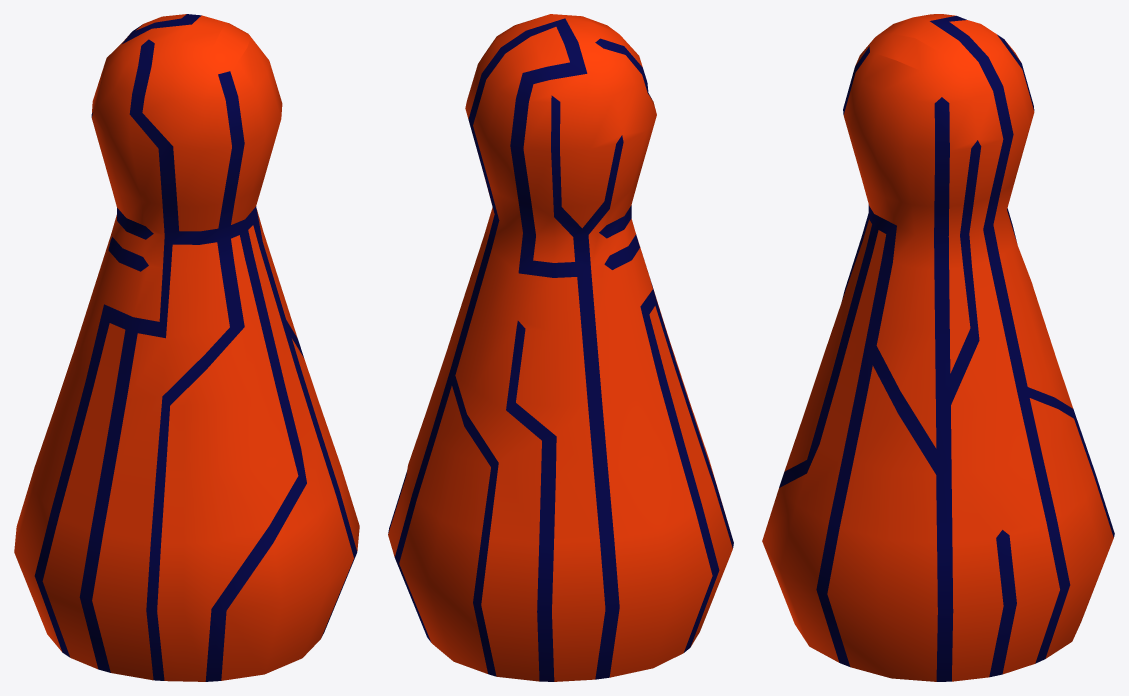
Rendered from chiporange.obj.
3 renders of one model, left to right at view 1: azimuth 30°, elevation 25°; view 2: azimuth 150°, elevation 25°; view 3: azimuth 270°, elevation 25°, orthographic.
Parts seen in each view (by area): view 1: Куб.009_Куб.011; view 2: Куб.009_Куб.011; view 3: Куб.009_Куб.011.
Part boxes in pixels (x1=…): Куб.009_Куб.011: x1=14, y1=14, x2=359, y2=681; Куб.009_Куб.011: x1=388, y1=14, x2=733, y2=681; Куб.009_Куб.011: x1=762, y1=14, x2=1114, y2=681.
Size of the model in its own units: 0.2402 by 0.4544 by 0.2417.
